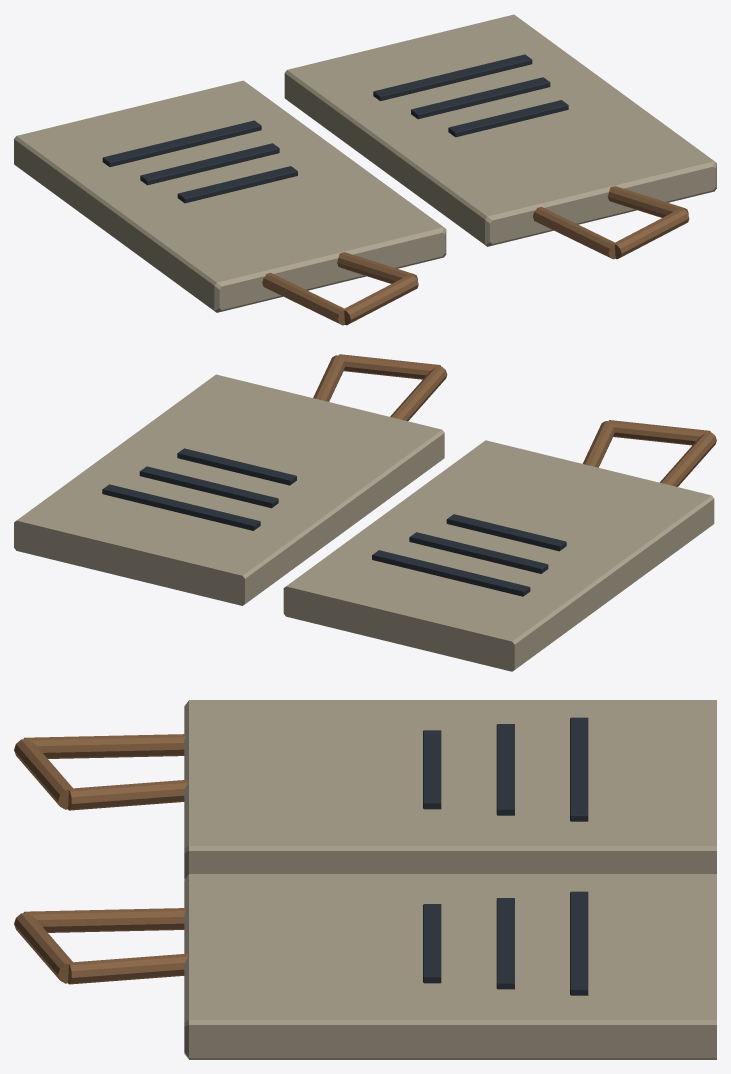
Rendered from R-07_sample_tags.glb.
The picture shows the model from 3 angles, top to bottom: view 1: azimuth 30°, elevation 25°; view 2: azimuth 150°, elevation 25°; view 3: azimuth 270°, elevation 25°; orthographic projection. The views are drawn at different scales.
Parts seen in each view (by area): view 1: R-07_sample_tags; view 2: R-07_sample_tags; view 3: R-07_sample_tags.
Part boxes in pixels (x1=…): R-07_sample_tags: x1=14, y1=14, x2=716, y2=325; R-07_sample_tags: x1=14, y1=354, x2=716, y2=671; R-07_sample_tags: x1=14, y1=700, x2=716, y2=1059.
Bounding box in the file's own units: 0.208 × 0.014 × 0.1913.
